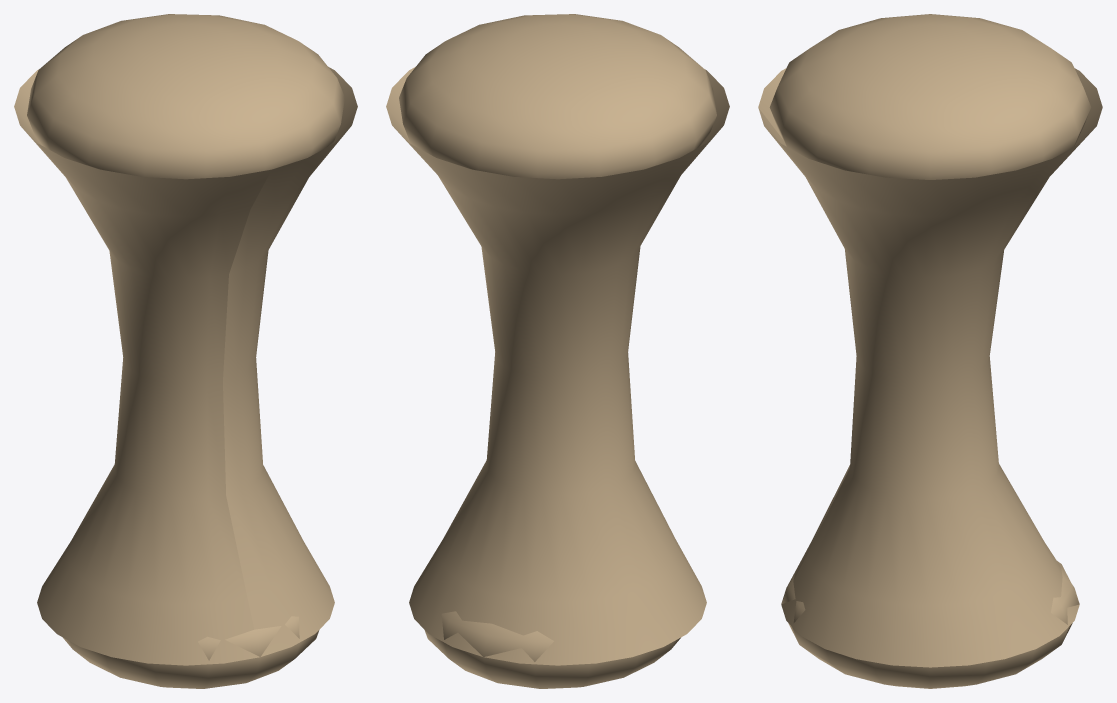
File: left_toe_2_proximal.glb
3 views of the same model, side by side, from view 1: azimuth 30°, elevation 25°; view 2: azimuth 150°, elevation 25°; view 3: azimuth 270°, elevation 25° (orthographic).
Parts seen in each view (by area): view 1: left_toe_2_proximal:diaphysis, left_toe_2_proximal:proximal-envelope, left_toe_2_proximal:distal-envelope; view 2: left_toe_2_proximal:diaphysis, left_toe_2_proximal:proximal-envelope, left_toe_2_proximal:distal-envelope; view 3: left_toe_2_proximal:diaphysis, left_toe_2_proximal:proximal-envelope, left_toe_2_proximal:distal-envelope.
Boxes of the visible parts, x1,y1,x2,y2 form: left_toe_2_proximal:diaphysis: (14,67,357,665); left_toe_2_proximal:proximal-envelope: (27,14,344,179); left_toe_2_proximal:distal-envelope: (63,616,319,688); left_toe_2_proximal:diaphysis: (386,67,729,665); left_toe_2_proximal:proximal-envelope: (399,14,716,179); left_toe_2_proximal:distal-envelope: (424,611,680,688); left_toe_2_proximal:diaphysis: (758,68,1102,667); left_toe_2_proximal:proximal-envelope: (769,14,1091,179); left_toe_2_proximal:distal-envelope: (781,561,1079,688).
Bounding box in the file's own units: 0.0864 × 0.1728 × 0.0864.
